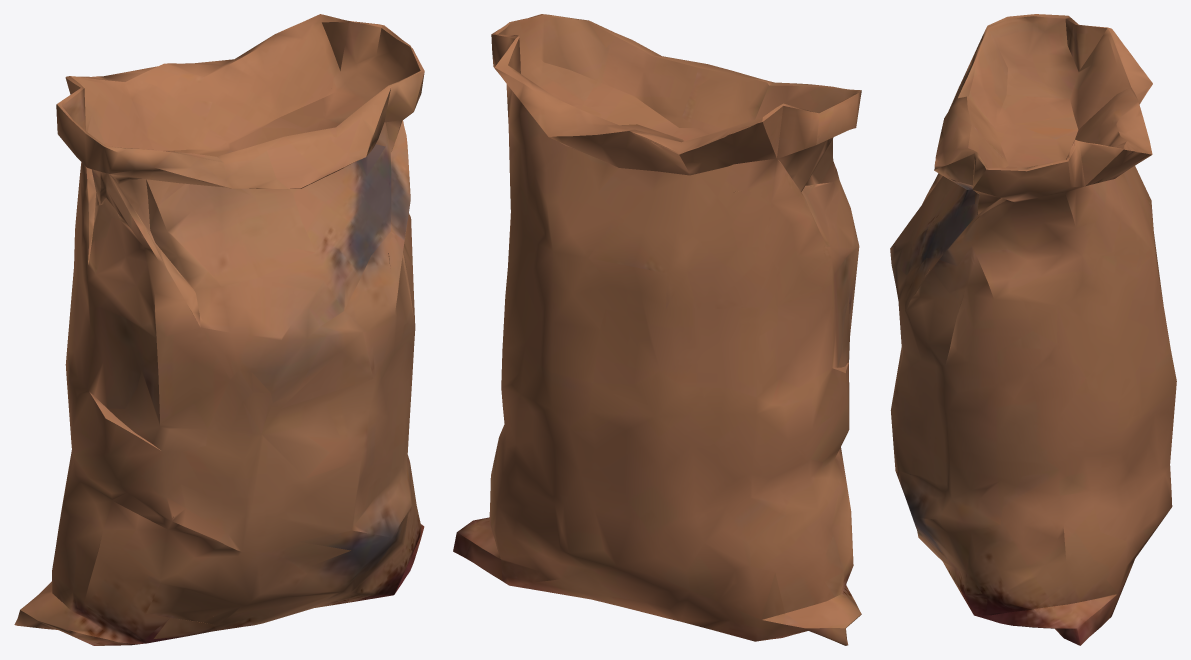
Rendered from mat_cement_meshok_tsementa_idle.glb.
The picture shows the model from 3 angles, left to right: view 1: azimuth 30°, elevation 25°; view 2: azimuth 150°, elevation 25°; view 3: azimuth 270°, elevation 25°; orthographic projection. The views are drawn at different scales.
Visible parts, largest first — view 1: tripo_node_fd202236-f6db-4c39-a692-d6a56e12dc67; view 2: tripo_node_fd202236-f6db-4c39-a692-d6a56e12dc67; view 3: tripo_node_fd202236-f6db-4c39-a692-d6a56e12dc67.
Boxes of the visible parts, left/top/right/bottom form: tripo_node_fd202236-f6db-4c39-a692-d6a56e12dc67: left=14, top=14, right=424, bottom=645; tripo_node_fd202236-f6db-4c39-a692-d6a56e12dc67: left=453, top=14, right=861, bottom=645; tripo_node_fd202236-f6db-4c39-a692-d6a56e12dc67: left=890, top=14, right=1176, bottom=645.
Bounding box in the file's own units: 0.3063 × 0.4001 × 0.2127.
Materials: 1 (1 with a texture image).
